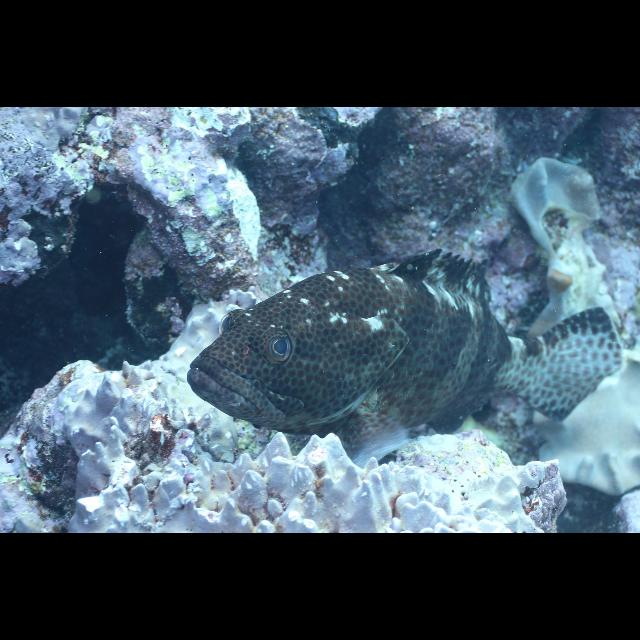Groupers: (185, 246, 620, 454)
